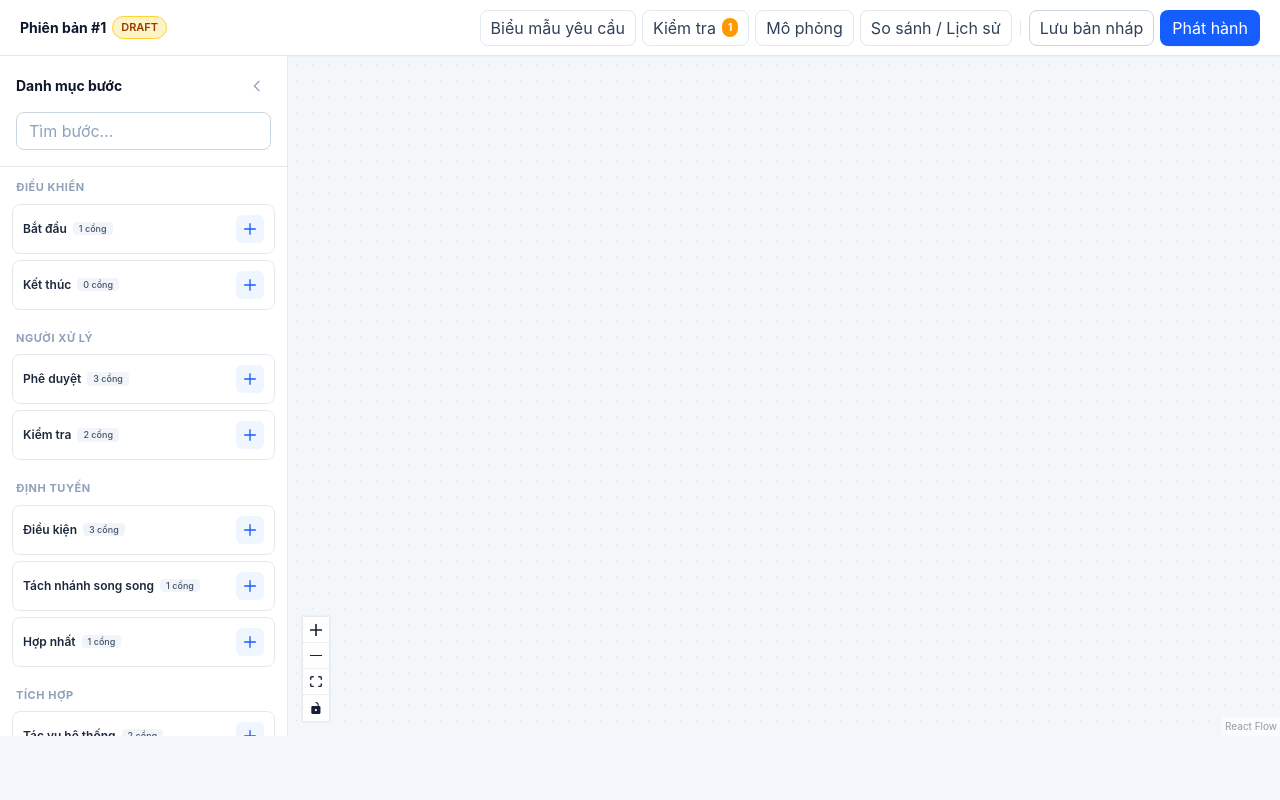
Test case: WorkflowBuilder Component › adds a new node from the catalog to the canvas in draft mode
This screenshot has width=1280, height=800.
Note: Click Add on Approval node
Click the button with test id "add-node-approval" at (250, 379), box [236,365,264,393]
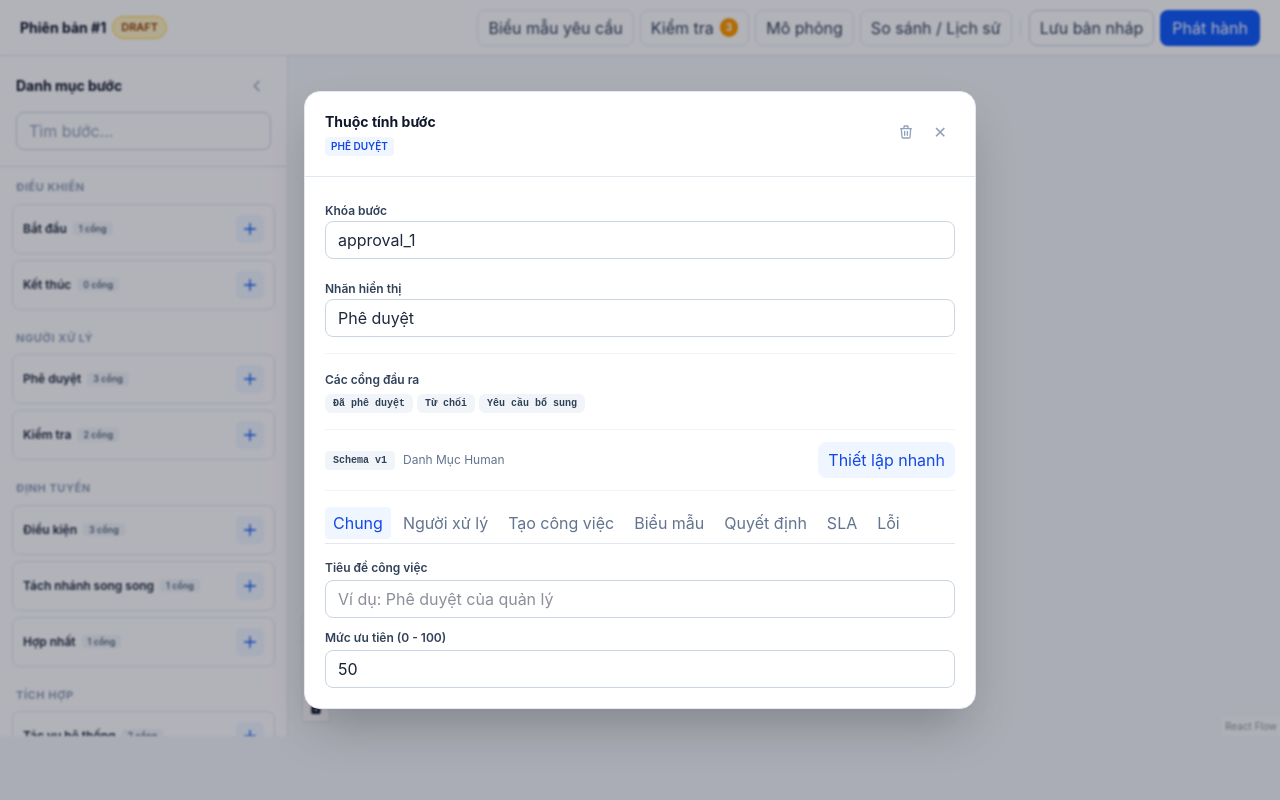
Expected: the text "Phê duyệt" below "Kết thúc" is shown, [23,371,81,386]
Now the element with test id "properties-panel" is shown, box [304,91,976,709]
Now the field with test id "prop-node-label" holds "Phê duyệt", box [325,299,955,337]
Click the button with test id "close-properties-modal" at (940, 132), box [926,112,955,152]
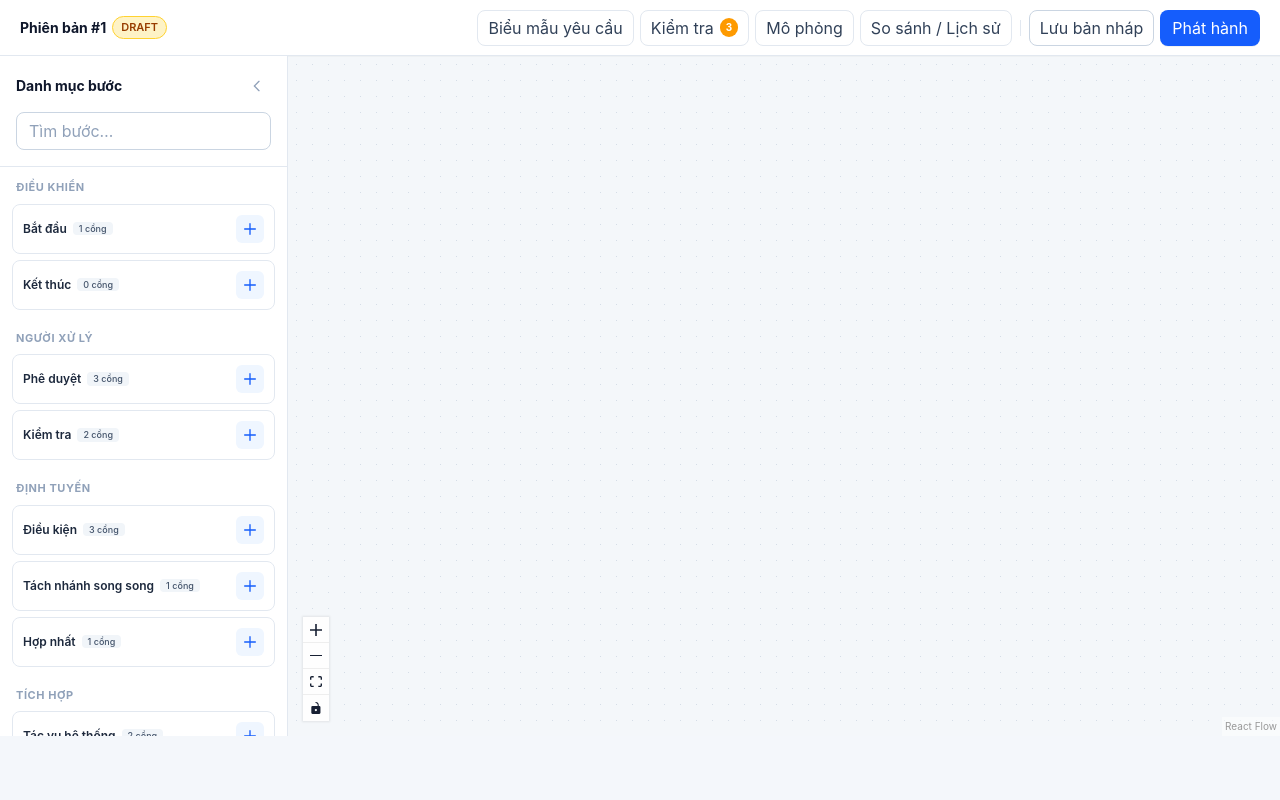
Now the element with test id "properties-panel" is gone
